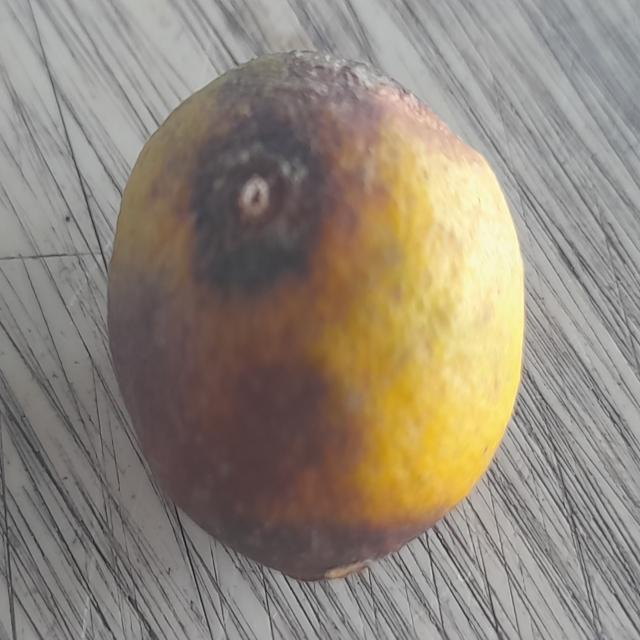black spot: (100, 46, 522, 584)
